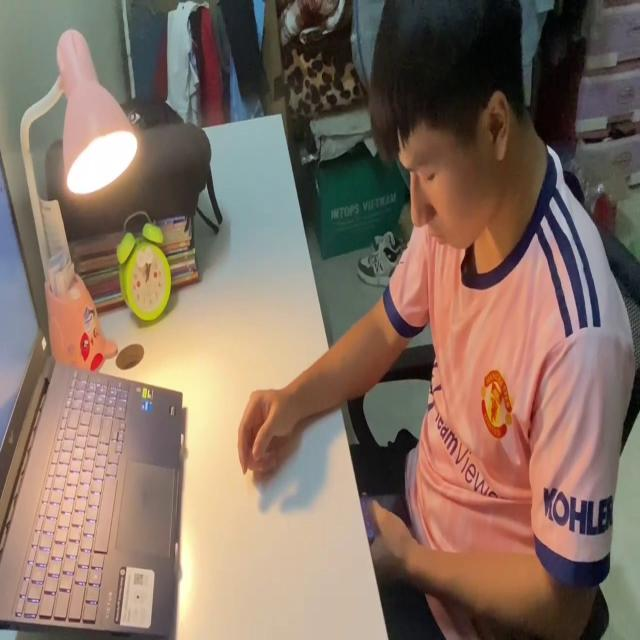laptop: (1, 146, 186, 640)
phone: (358, 487, 404, 545)
student: (235, 0, 628, 640)
